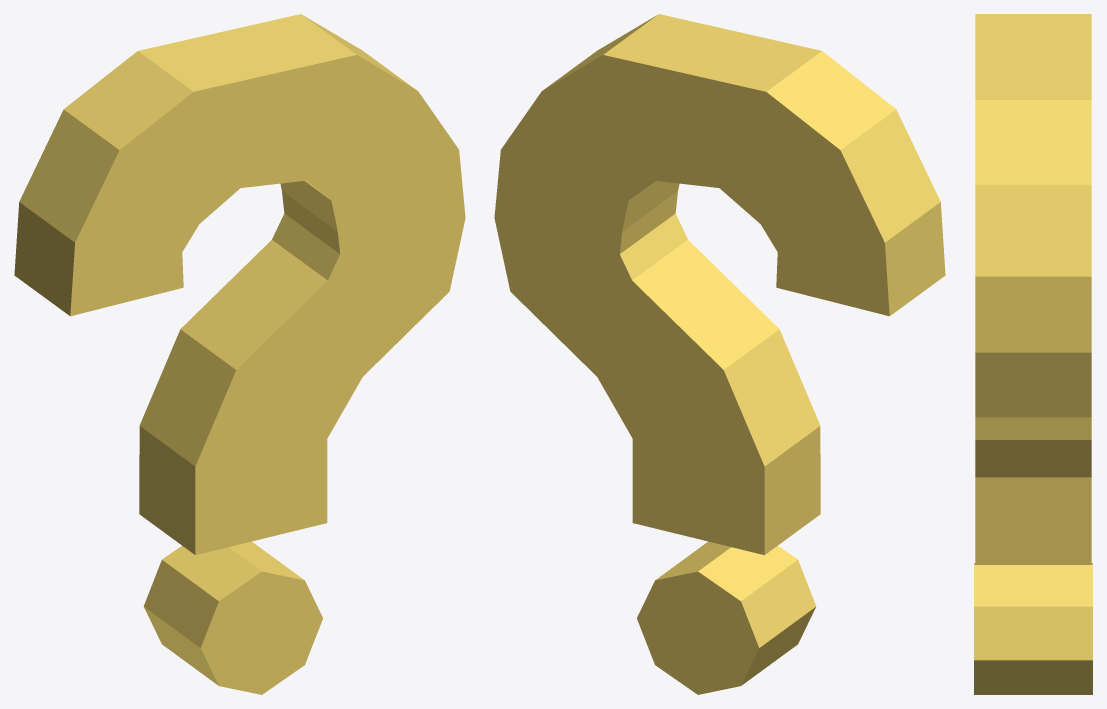
The model's file is questionmark.glb.
3 views of the same model, side by side, from view 1: azimuth 30°, elevation 25°; view 2: azimuth 150°, elevation 25°; view 3: azimuth 270°, elevation 25° (orthographic). The views are drawn at different scales.
Parts seen in each view (by area): view 1: Cube.001; view 2: Cube.001; view 3: Cube.001.
Boxes of the visible parts, x1,y1,x2,y2 form: Cube.001: (14, 14, 465, 694); Cube.001: (494, 14, 945, 694); Cube.001: (974, 14, 1092, 694).
Bounding box in the file's own units: 1 × 1.5 × 0.25.
